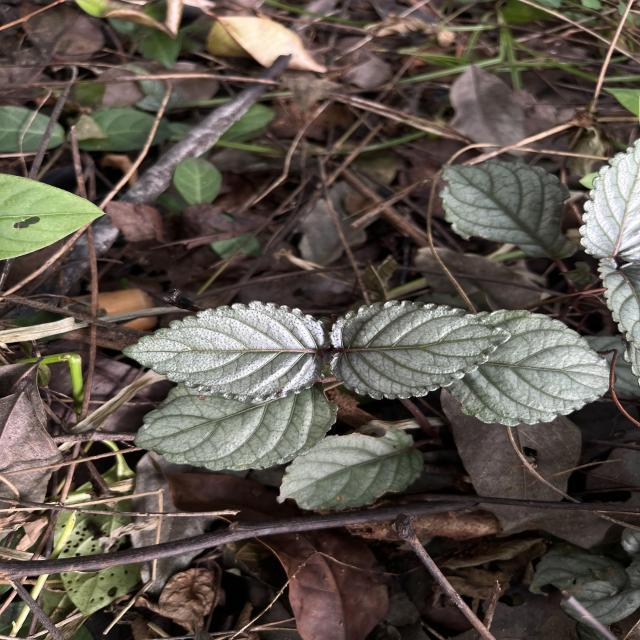Hemigraphis colorata: (119, 296, 328, 407), (446, 306, 620, 428), (324, 296, 516, 404), (132, 382, 342, 474), (437, 157, 582, 263), (273, 420, 427, 513), (575, 135, 640, 264)
